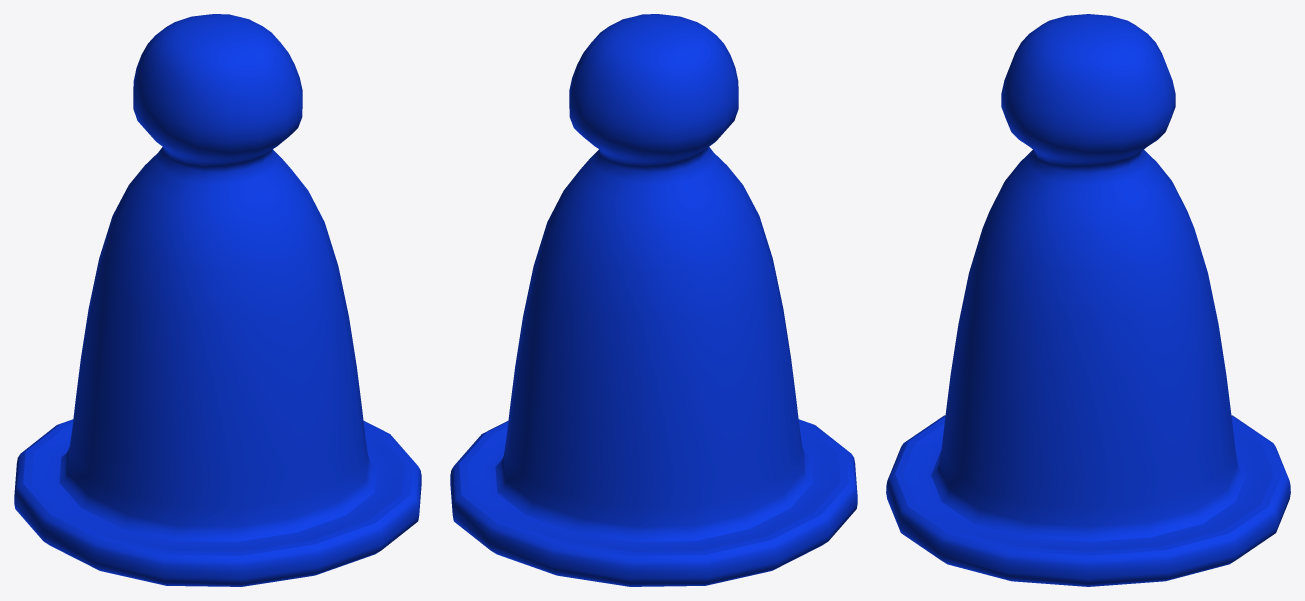
File: Jugador1gcw.glb
The picture shows the model from 3 angles, left to right: view 1: azimuth 30°, elevation 25°; view 2: azimuth 150°, elevation 25°; view 3: azimuth 270°, elevation 25°; orthographic projection.
Parts seen in each view (by area): view 1: k1; view 2: k1; view 3: k1.
Part boxes in pixels (left/top/right/bottom): k1: left=14, top=14, right=421, bottom=586; k1: left=450, top=14, right=857, bottom=586; k1: left=886, top=14, right=1290, bottom=586.
Size of the model in its own units: 0.6931 by 0.9252 by 0.6931.
